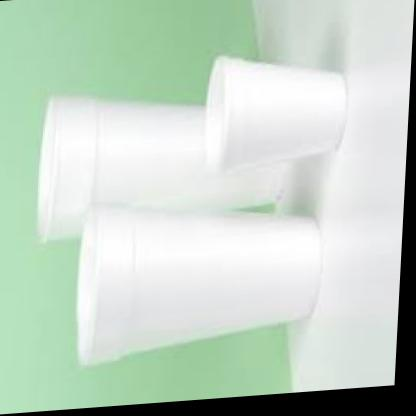Plastic: (13, 33, 361, 388)
